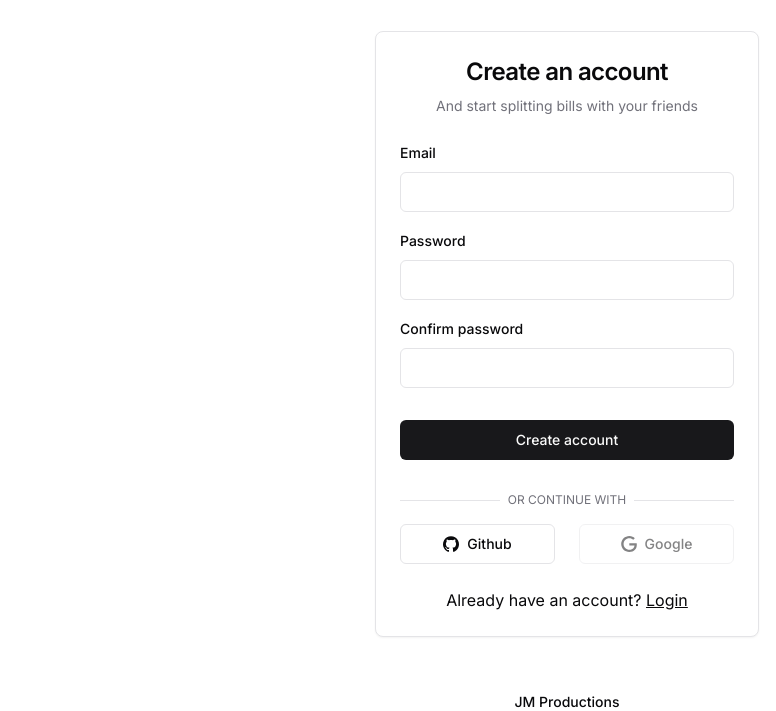
Test: Register form tests › Try registering with an empty password
In the field with test id "register-email": (567, 192) [400,172,734,212], type "test@test.com"
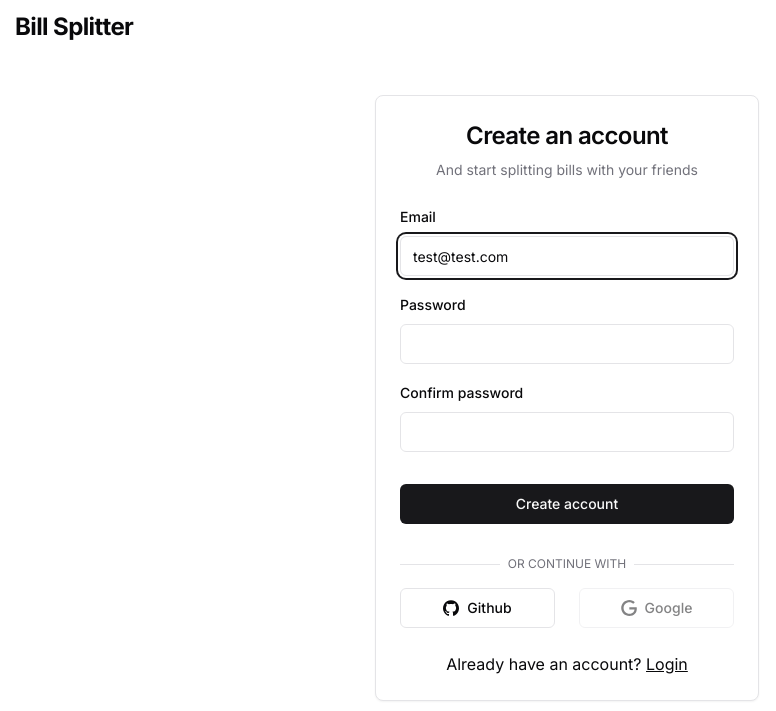
Click the button with test id "register-submit": (567, 504) [400,484,734,524]
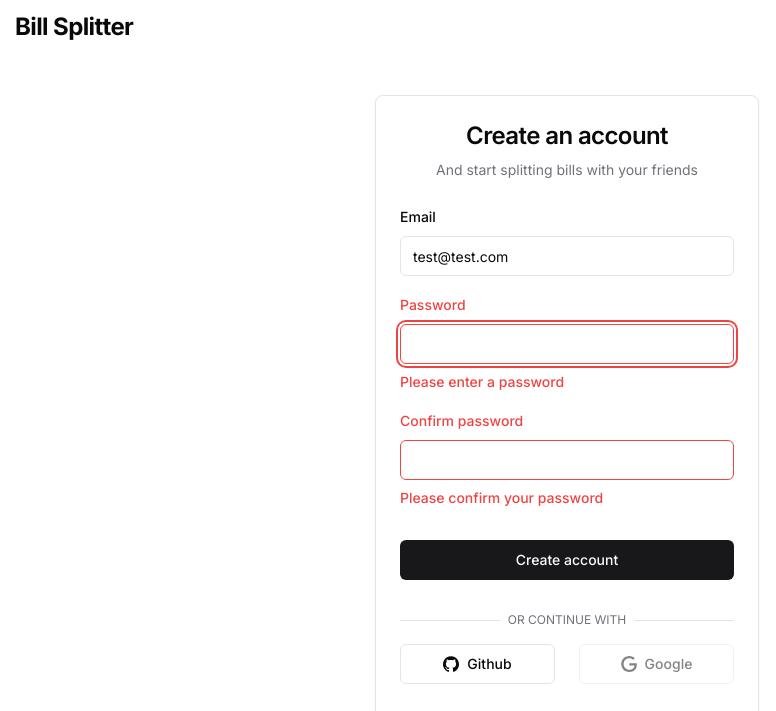
Result: the form with test id "register-form" shows "Please enter a password" at [400,204,734,596]
